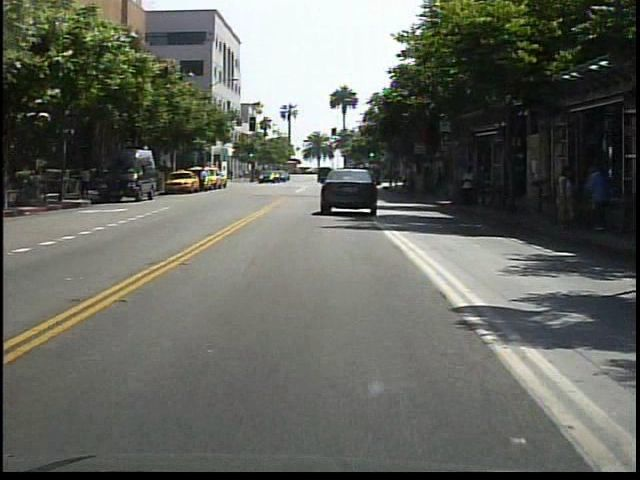person: (458, 164, 482, 214)
